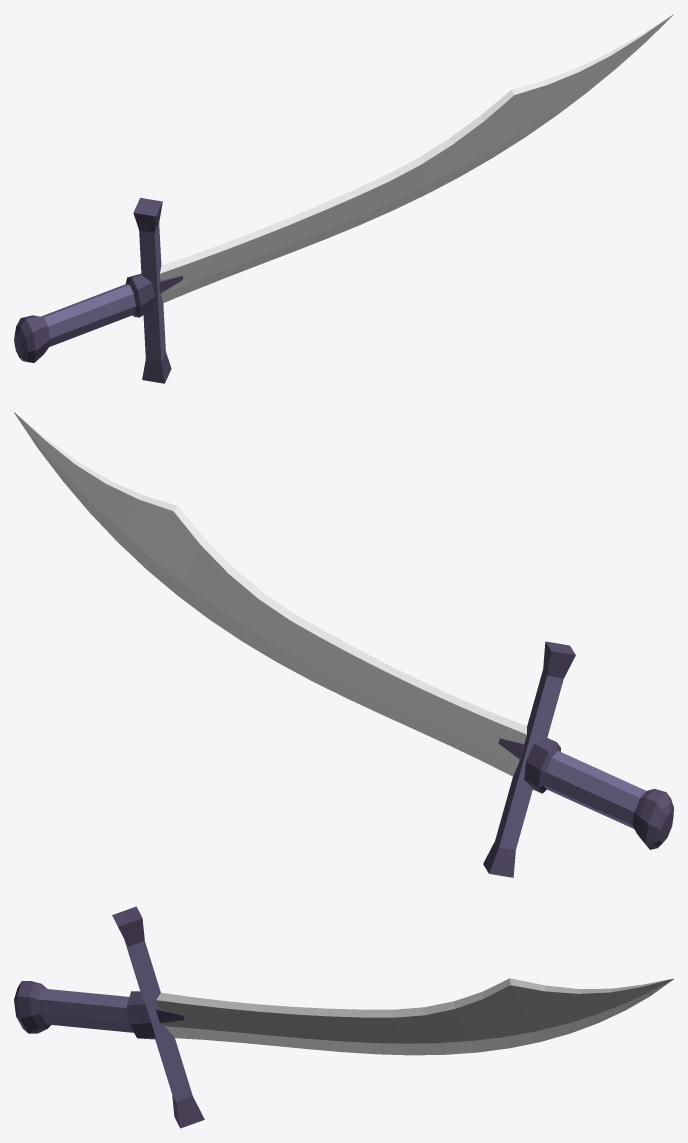
File: Sword.fbx
The picture shows the model from 3 angles, top to bottom: view 1: azimuth 30°, elevation 25°; view 2: azimuth 150°, elevation 25°; view 3: azimuth 330°, elevation 25°; orthographic projection. The views are drawn at different scales.
Parts seen in each view (by area): view 1: Sword; view 2: Sword; view 3: Sword.
Boxes of the visible parts, left/top/right/bottom form: Sword: left=14, top=14, right=673, bottom=383; Sword: left=14, top=412, right=673, bottom=877; Sword: left=14, top=906, right=673, bottom=1128.
Size of the model in its own units: 84.34 by 35.42 by 10.94.
